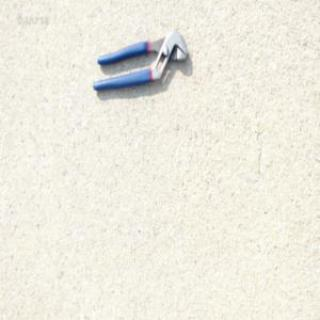Pliertrack_idkeyframe: (91, 26, 187, 91)
